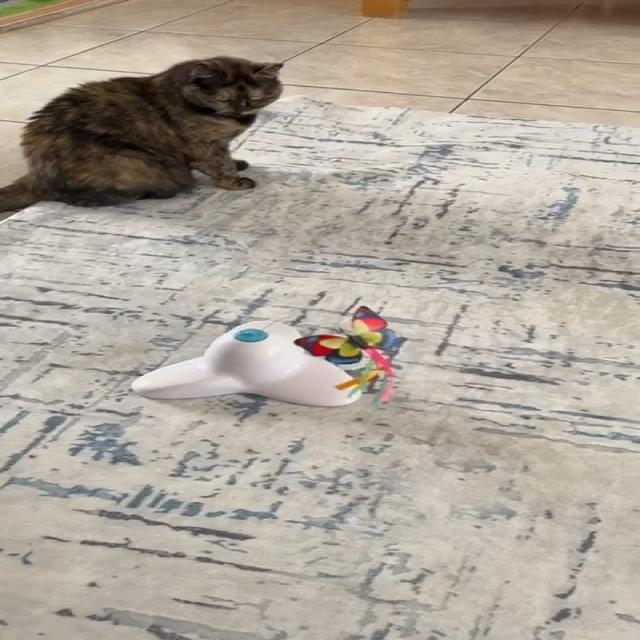authorized: (0, 54, 284, 213)
